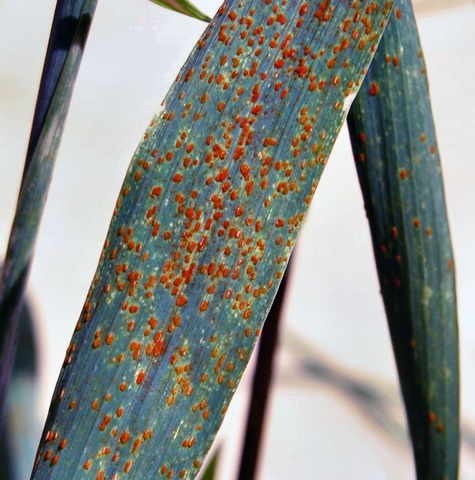Leaf Rust: (37, 1, 381, 466)
